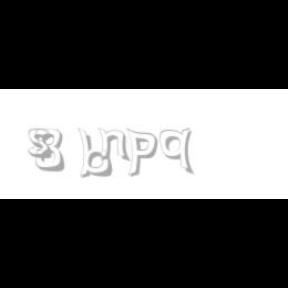8: (36, 128, 64, 172)
P: (126, 128, 158, 178)
b: (77, 128, 115, 178)
n: (97, 128, 131, 162)
q: (159, 128, 195, 176)
s: (28, 128, 56, 160)
